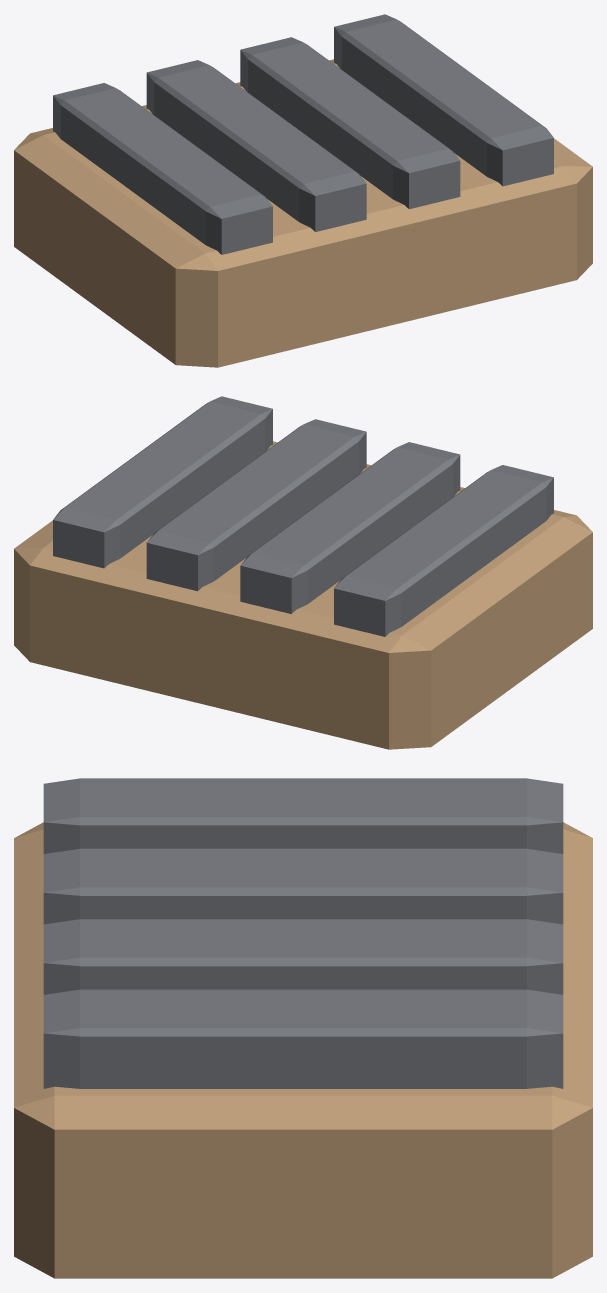
File: b04_broken_pallet_scrap_stack.glb
3 views of the same model, one above another, from view 1: azimuth 30°, elevation 25°; view 2: azimuth 150°, elevation 25°; view 3: azimuth 270°, elevation 25° (orthographic). The views are drawn at different scales.
Visible parts, largest first — view 1: b04_broken_pallet_scrap_stack; view 2: b04_broken_pallet_scrap_stack; view 3: b04_broken_pallet_scrap_stack.
Part boxes in pixels (x1,y1,x2,y2): b04_broken_pallet_scrap_stack: (14,14,592,367); b04_broken_pallet_scrap_stack: (14,396,592,749); b04_broken_pallet_scrap_stack: (14,778,592,1278).
Bounding box in the file's own units: 1.23 × 0.422 × 0.96.
